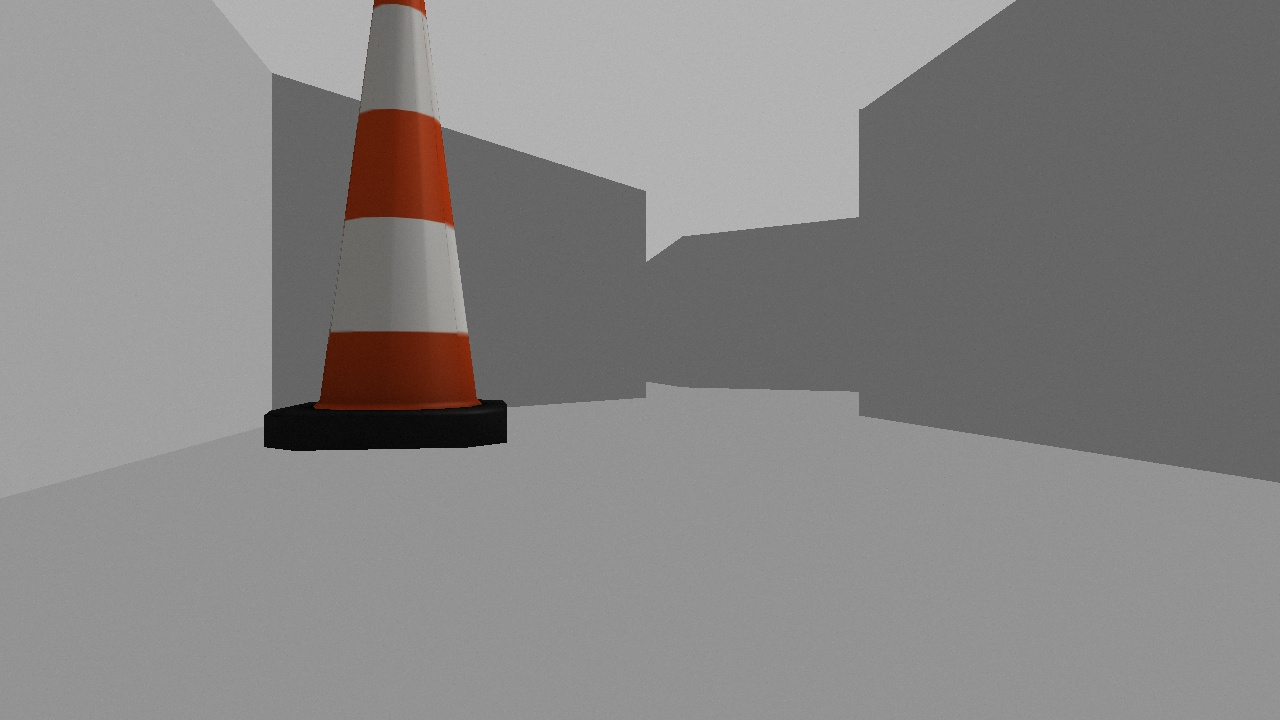barricade: (263, 1, 506, 451)
